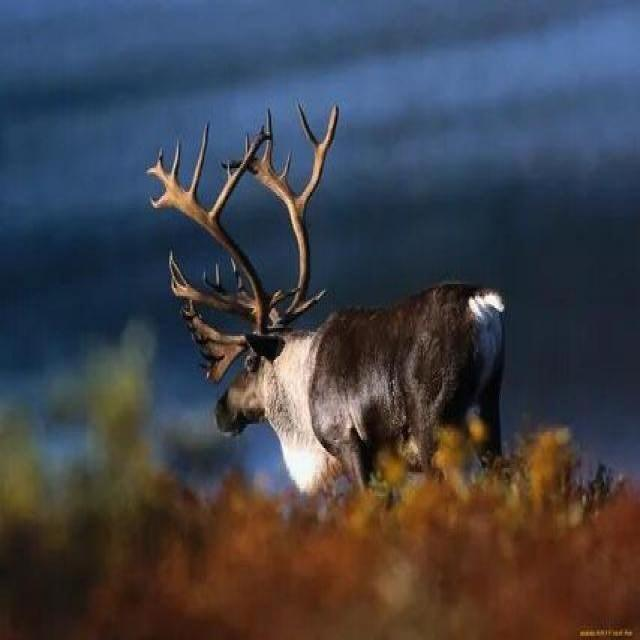deer: (148, 103, 572, 576)
